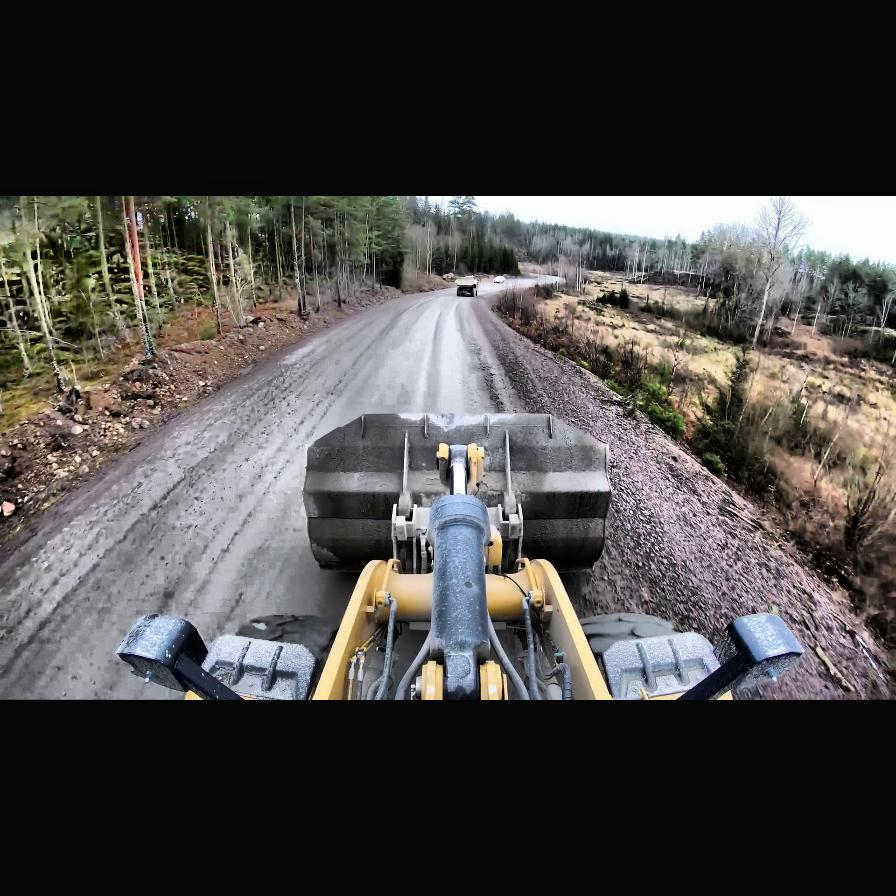anchor: (439, 442, 487, 495)
